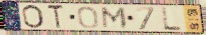7: (135, 6, 155, 30)
L: (161, 6, 185, 32)
M: (101, 6, 129, 29)
O: (21, 4, 46, 30), (77, 6, 101, 30)
T: (46, 4, 66, 30)
